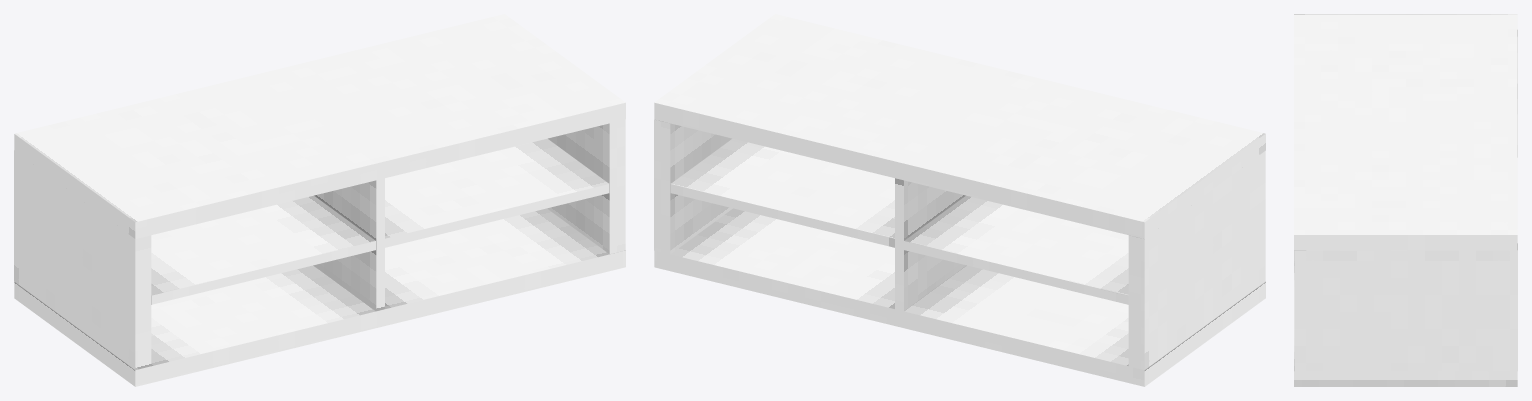
The model's file is TVShelfUnit.glb.
3 renders of one model, left to right at view 1: azimuth 30°, elevation 25°; view 2: azimuth 150°, elevation 25°; view 3: azimuth 270°, elevation 25°, orthographic. The views are drawn at different scales.
Parts seen in each view (by area): view 1: TVShelfUnit; view 2: TVShelfUnit; view 3: TVShelfUnit.
Part boxes in pixels (box(x1,y1,x2,y2)): TVShelfUnit: box(14, 14, 625, 386); TVShelfUnit: box(654, 14, 1265, 386); TVShelfUnit: box(1294, 14, 1517, 386).
Size of the model in its own units: 1.04 by 0.3329 by 0.4444.
Materials: 1 (1 with a texture image).
